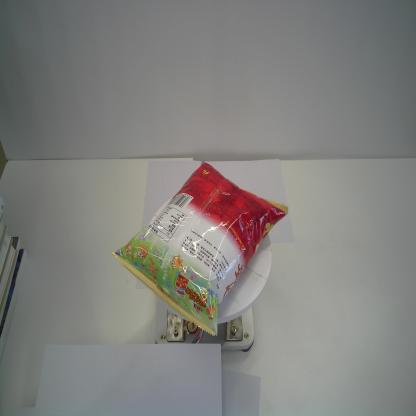Puffed Food: (110, 160, 290, 338)
